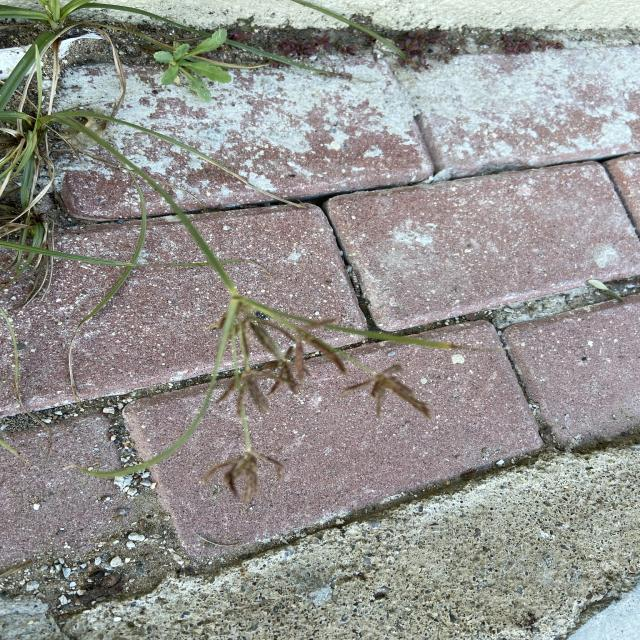cyperus: (160, 282, 452, 510)
